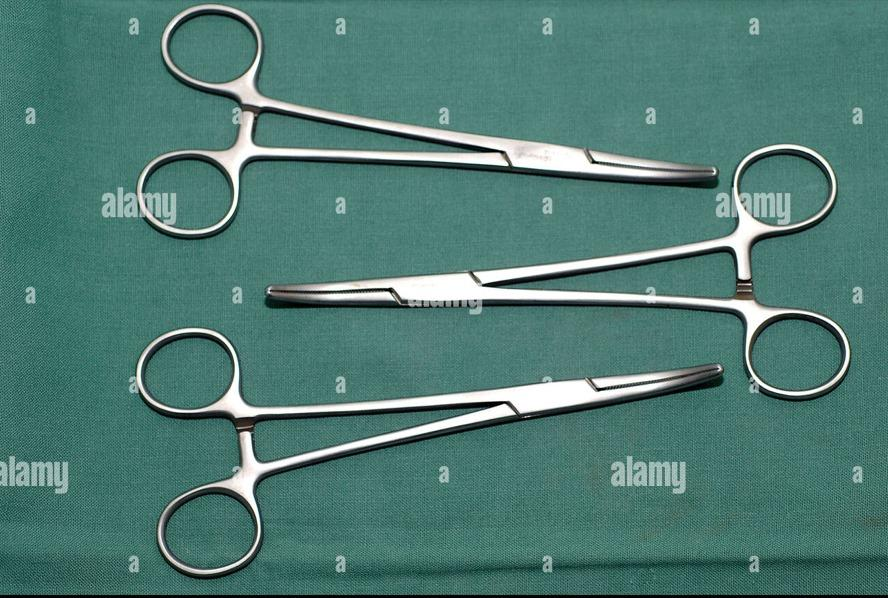Artery Forceps: (125, 313, 733, 586), (262, 137, 861, 405), (135, 3, 725, 240)
